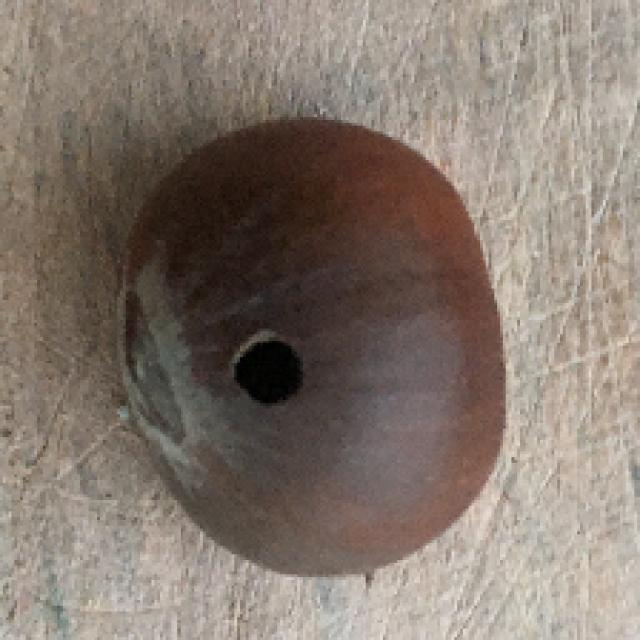damagedHazelnut: (125, 115, 505, 580)
